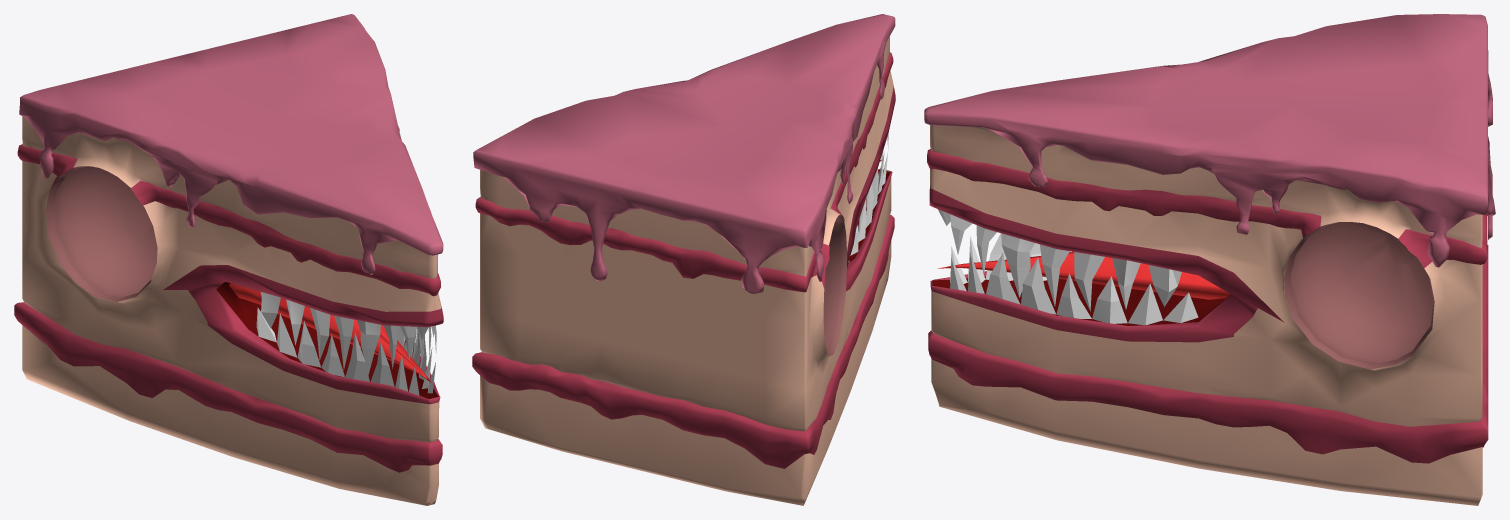
Rendered from CakeFinalExport.obj.
3 views of the same model, side by side, from view 1: azimuth 30°, elevation 25°; view 2: azimuth 150°, elevation 25°; view 3: azimuth 270°, elevation 25° (orthographic). The views are drawn at different scales.
Parts seen in each view (by area): view 1: CakeFinalExport; view 2: CakeFinalExport; view 3: CakeFinalExport.
Boxes of the visible parts, x1=… form: CakeFinalExport: x1=14, y1=14, x2=443, y2=505; CakeFinalExport: x1=472, y1=14, x2=895, y2=505; CakeFinalExport: x1=924, y1=14, x2=1495, y2=505.
Size of the model in its own units: 3.09 by 2.57 by 4.02.
